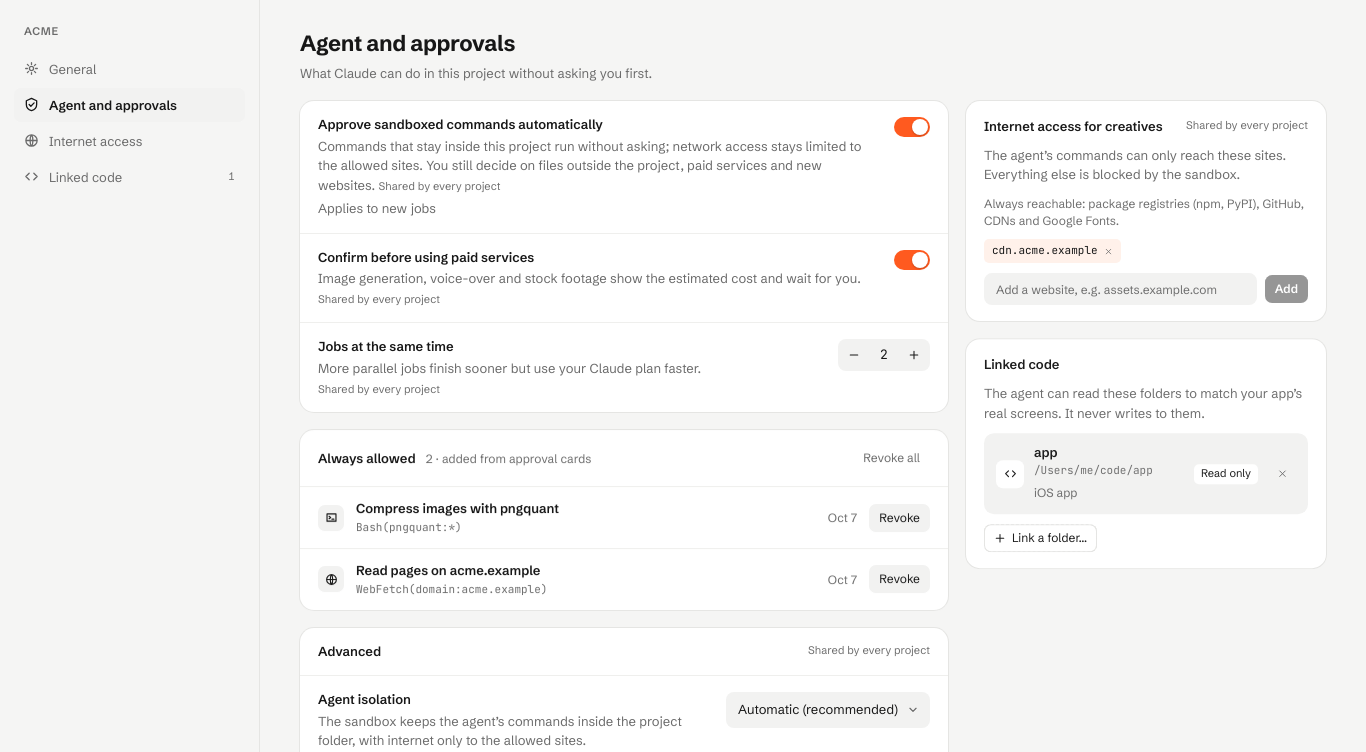
Test: Project settings · always allowed › a failed revoke keeps the rule on screen and explains why
The width and height of the screenshot is (1366, 752).
Expected: the text "Compress images with pngquant" is shown, 356,500 -> 559,516
Click the button with aria-label "Revoke Compress images with pngquant".
click(900, 518)  # box 869,504 -> 930,532
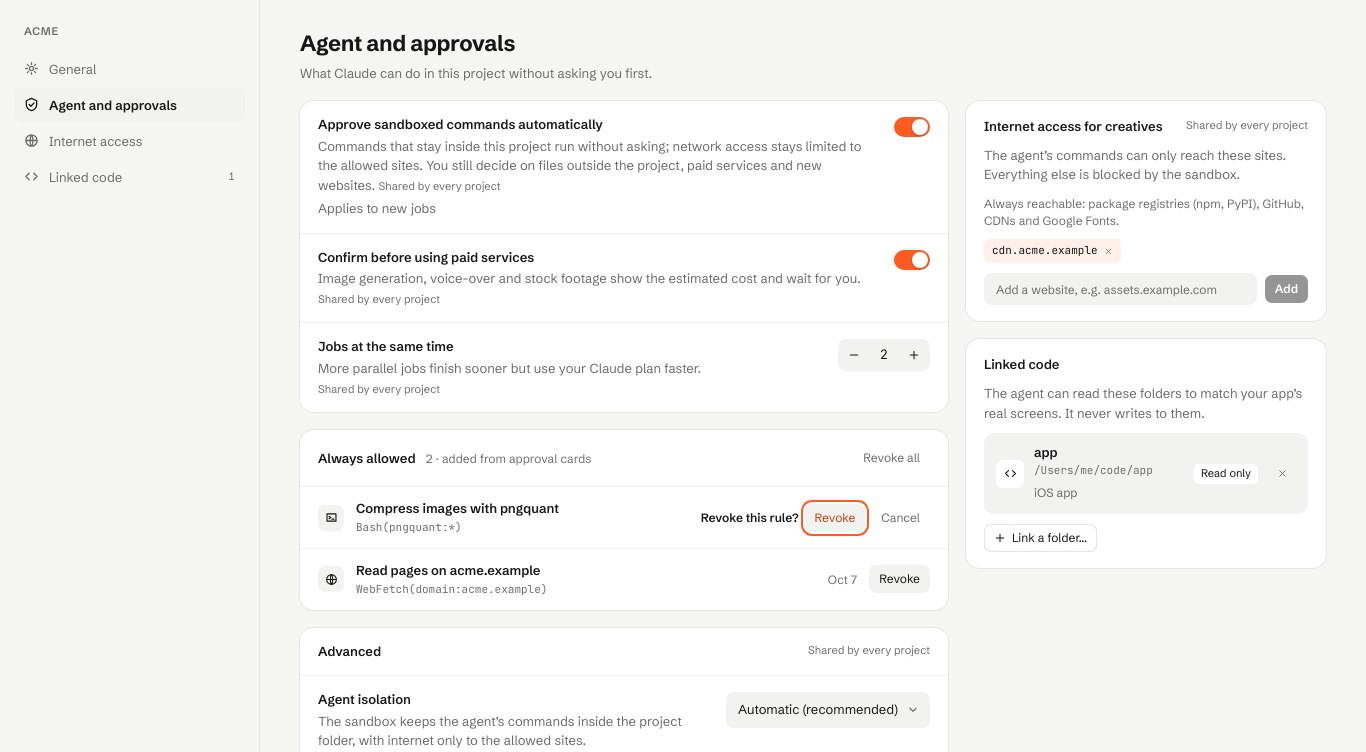
Click the button with aria-label "Revoke Compress images with pngquant".
click(835, 518)  # box 804,504 -> 865,532
Wait 400 ms
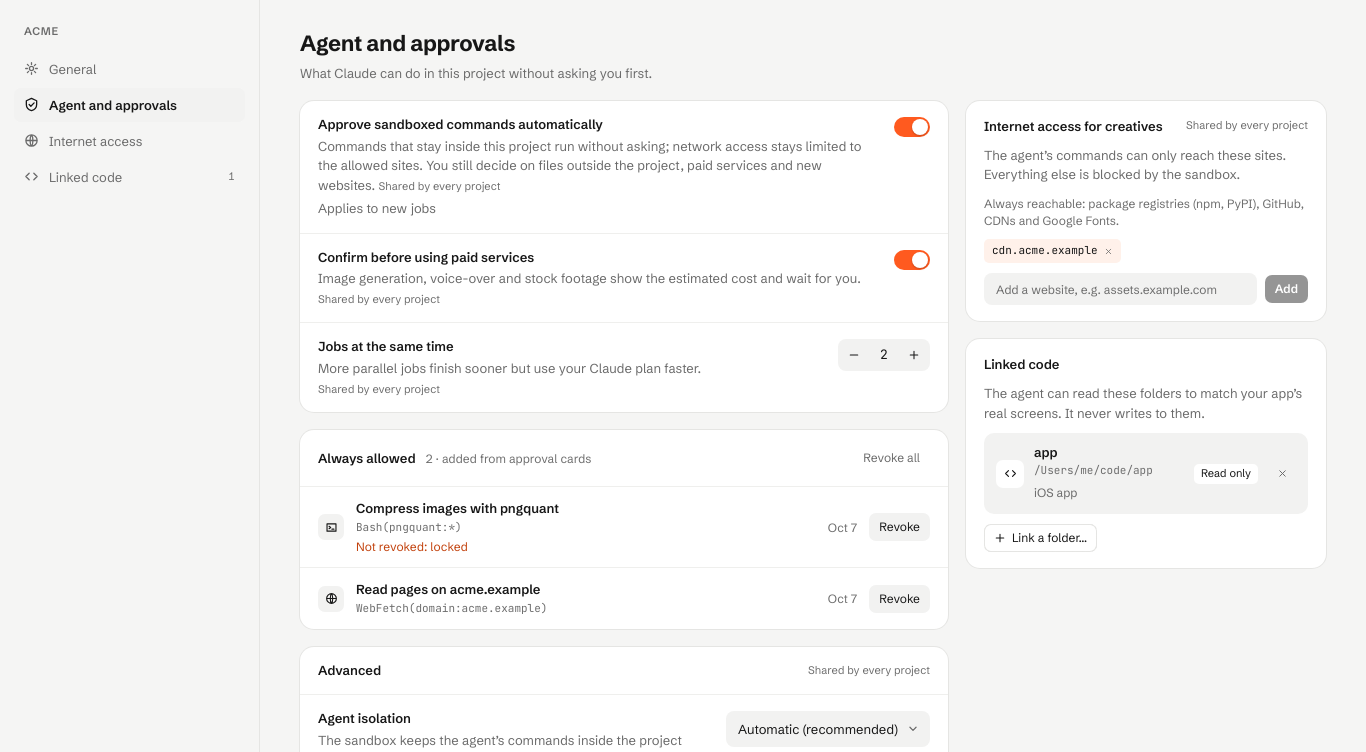
Now the message reads "Not revoked: locked", box 356,539 -> 468,554
